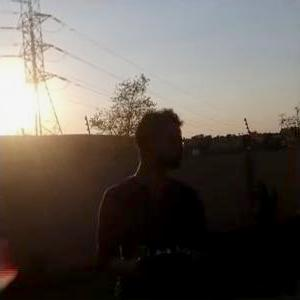follow: (98, 100, 222, 298)
